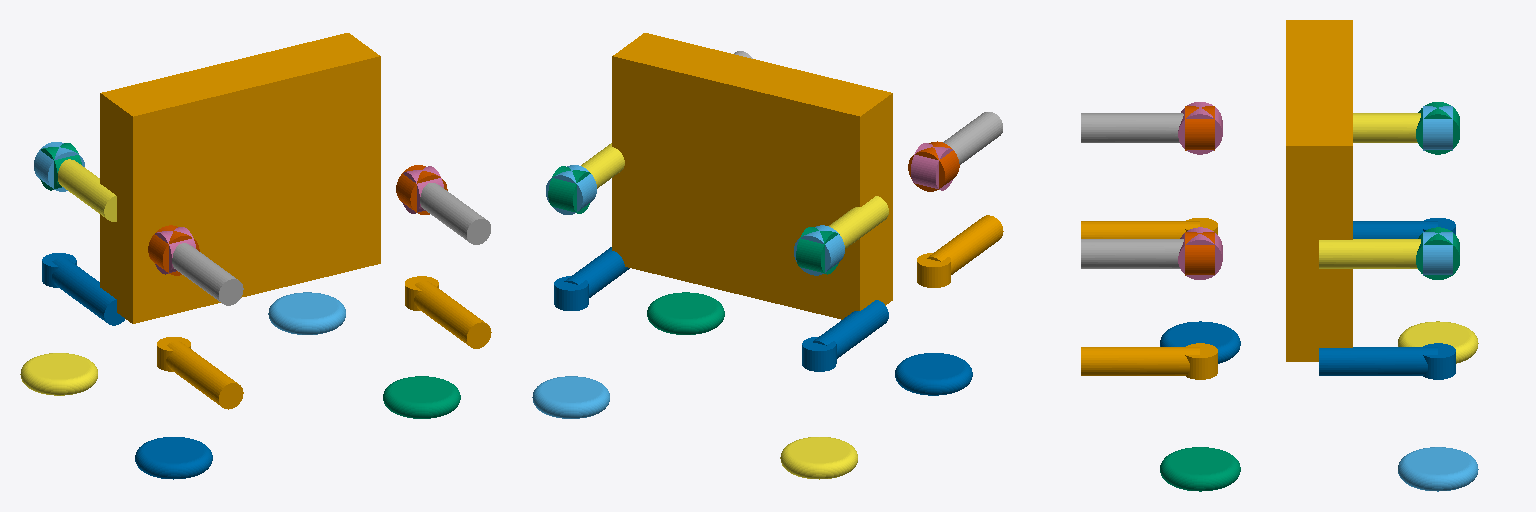
The robot description file, URDF, robot "MELEW3":
<?xml version="1.0" ?>
<!-- =================================================================================== -->
<!-- |    This document was autogenerated by xacro from MELEW3.xacro                   | -->
<!-- |    EDITING THIS FILE BY HAND IS NOT RECOMMENDED                                 | -->
<!-- =================================================================================== -->
<robot name="MELEW3">
  <link name="BODY">
    <inertial>
      <mass value="6.0"/>
      <origin rpy="0 0 0" xyz="0 0 0"/>
      <inertia ixx="0.08638450" ixy="0.0" ixz="0.0" iyy="0.13138450" iyz="0.0" izz="0.20500000"/>
    </inertial>
    <visual>
      <origin rpy="-1.5708 0 0" xyz="0 0 0"/>
      <geometry>
        <mesh filename="../meshes/body.STL"/>
      </geometry>
    </visual>
    <collision>
      <geometry>
        <mesh filename="../meshes/body.STL"/>
      </geometry>
    </collision>
  </link>
  <!-- FL -->
  <link name="HIP_YAW_FL">
    <inertial>
      <mass value="0.05"/>
      <origin rpy="0 0 0" xyz="0 0 0"/>
      <inertia ixx="0.01" ixy="0.0" ixz="0.0" iyy="0.01" iyz="0.0" izz="0.01"/>
    </inertial>
    <visual>
      <origin rpy="-1.5708 0 0" xyz="0 0 0"/>
      <geometry>
        <mesh filename="../meshes/joint_y.STL"/>
      </geometry>
    </visual>
    <collision>
      <geometry>
        <mesh filename="../meshes/joint_y.STL"/>
      </geometry>
    </collision>
  </link>
  <link name="HIP_ROLL_FL">
    <inertial>
      <mass value="0.05"/>
      <origin rpy="0 0 0" xyz="0 0 0"/>
      <inertia ixx="0.01" ixy="0.0" ixz="0.0" iyy="0.01" iyz="0.0" izz="0.01"/>
    </inertial>
    <visual>
      <origin rpy="-1.5708 0 0" xyz="0 0 0"/>
      <geometry>
        <mesh filename="../meshes/joint_r.STL"/>
      </geometry>
    </visual>
    <collision>
      <geometry>
        <mesh filename="../meshes/joint_r.STL"/>
      </geometry>
    </collision>
  </link>
  <link name="HIP_PITCH_FL">
    <inertial>
      <mass value="4.05"/>
      <origin rpy="0 0 0" xyz="0 0 -0.09876543209"/>
      <inertia ixx="0.06000329" ixy="0.0" ixz="0.0" iyy="0.06024268" iyz="0.0" izz="0.01"/>
    </inertial>
    <visual>
      <origin rpy="-1.5708 0 0" xyz="0 0 0"/>
      <geometry>
        <mesh filename="../meshes/link_small.STL"/>
      </geometry>
    </visual>
    <collision>
      <geometry>
        <mesh filename="../meshes/link_small.STL"/>
      </geometry>
    </collision>
  </link>
  <link name="KNEE_FL">
    <inertial>
      <mass value="1.05"/>
      <origin rpy="-0 0 0" xyz="0 0 -0.095238095238"/>
      <inertia ixx="0.01500082" ixy="0.0" ixz="0.0" iyy="0.01506067" iyz="0.0" izz="0.01"/>
    </inertial>
    <visual>
      <origin rpy="-1.5708 0 0" xyz="0 0 0"/>
      <geometry>
        <mesh filename="../meshes/link_small.STL"/>
      </geometry>
    </visual>
    <collision>
      <geometry>
        <mesh filename="../meshes/link_small.STL"/>
      </geometry>
    </collision>
  </link>
  <!-- FR -->
  <link name="HIP_YAW_FR">
    <inertial>
      <mass value="0.05"/>
      <origin rpy="0 0 0" xyz="0 0 0"/>
      <inertia ixx="0.01" ixy="0.0" ixz="0.0" iyy="0.01" iyz="0.0" izz="0.01"/>
    </inertial>
    <visual>
      <origin rpy="-1.5708 0 0" xyz="0 0 0"/>
      <geometry>
        <mesh filename="../meshes/joint_y.STL"/>
      </geometry>
    </visual>
    <collision>
      <geometry>
        <mesh filename="../meshes/joint_y.STL"/>
      </geometry>
    </collision>
  </link>
  <link name="HIP_ROLL_FR">
    <inertial>
      <mass value="0.05"/>
      <origin rpy="0 0 0" xyz="0 0 0"/>
      <inertia ixx="0.01" ixy="0.0" ixz="0.0" iyy="0.01" iyz="0.0" izz="0.01"/>
    </inertial>
    <visual>
      <origin rpy="-1.5708 0 0" xyz="0 0 0"/>
      <geometry>
        <mesh filename="../meshes/joint_r.STL"/>
      </geometry>
    </visual>
    <collision>
      <geometry>
        <mesh filename="../meshes/joint_r.STL"/>
      </geometry>
    </collision>
  </link>
  <link name="HIP_PITCH_FR">
    <inertial>
      <mass value="4.05"/>
      <origin rpy="0 0 0" xyz="0 0 -0.09876543209"/>
      <inertia ixx="0.06000329" ixy="0.0" ixz="0.0" iyy="0.06024268" iyz="0.0" izz="0.01"/>
    </inertial>
    <visual>
      <origin rpy="-1.5708 0 0" xyz="0 0 0"/>
      <geometry>
        <mesh filename="../meshes/link_small.STL"/>
      </geometry>
    </visual>
    <collision>
      <geometry>
        <mesh filename="../meshes/link_small.STL"/>
      </geometry>
    </collision>
  </link>
  <link name="KNEE_FR">
    <inertial>
      <mass value="1.05"/>
      <origin rpy="0 0 0" xyz="0 0 -0.095238095238"/>
      <inertia ixx="0.01500082" ixy="0.0" ixz="0.0" iyy="0.01506067" iyz="0.0" izz="0.01"/>
    </inertial>
    <visual>
      <origin rpy="-1.5708 0 0" xyz="0 0 0"/>
      <geometry>
        <mesh filename="../meshes/link_small.STL"/>
      </geometry>
    </visual>
    <collision>
      <geometry>
        <mesh filename="../meshes/link_small.STL"/>
      </geometry>
    </collision>
  </link>
  <!-- BL -->
  <link name="HIP_YAW_BL">
    <inertial>
      <mass value="0.05"/>
      <origin rpy="0 0 0" xyz="0 0 0"/>
      <inertia ixx="0.01" ixy="0.0" ixz="0.0" iyy="0.01" iyz="0.0" izz="0.01"/>
    </inertial>
    <visual>
      <origin rpy="-1.5708 0 0" xyz="0 0 0"/>
      <geometry>
        <mesh filename="../meshes/joint_y.STL"/>
      </geometry>
    </visual>
    <collision>
      <geometry>
        <mesh filename="../meshes/joint_y.STL"/>
      </geometry>
    </collision>
  </link>
  <link name="HIP_ROLL_BL">
    <inertial>
      <mass value="0.05"/>
      <origin rpy="0 0 0" xyz="0 0 0"/>
      <inertia ixx="0.01" ixy="0.0" ixz="0.0" iyy="0.01" iyz="0.0" izz="0.01"/>
    </inertial>
    <visual>
      <origin rpy="-1.5708 0 0" xyz="0 0 0"/>
      <geometry>
        <mesh filename="../meshes/joint_r.STL"/>
      </geometry>
    </visual>
    <collision>
      <geometry>
        <mesh filename="../meshes/joint_r.STL"/>
      </geometry>
    </collision>
  </link>
  <link name="HIP_PITCH_BL">
    <inertial>
      <mass value="4.05"/>
      <origin rpy="0 0 0" xyz="0 0 -0.09876543209"/>
      <inertia ixx="0.06000329" ixy="0.0" ixz="0.0" iyy="0.06024268" iyz="0.0" izz="0.01"/>
    </inertial>
    <visual>
      <origin rpy="-1.5708 0 0" xyz="0 0 0"/>
      <geometry>
        <mesh filename="../meshes/link_small.STL"/>
      </geometry>
    </visual>
    <collision>
      <geometry>
        <mesh filename="../meshes/link_small.STL"/>
      </geometry>
    </collision>
  </link>
  <link name="KNEE_BL">
    <inertial>
      <mass value="1.05"/>
      <origin rpy="0 0 0" xyz="0 0 -0.095238095238"/>
      <inertia ixx="0.01500082" ixy="0.0" ixz="0.0" iyy="0.01506067" iyz="0.0" izz="0.01"/>
    </inertial>
    <visual>
      <origin rpy="-1.5708 0 0" xyz="0 0 0"/>
      <geometry>
        <mesh filename="../meshes/link_small.STL"/>
      </geometry>
    </visual>
    <collision>
      <geometry>
        <mesh filename="../meshes/link_small.STL"/>
      </geometry>
    </collision>
  </link>
  <!-- BR -->
  <link name="HIP_YAW_BR">
    <inertial>
      <mass value="0.05"/>
      <origin rpy="0 0 0" xyz="0 0 0"/>
      <inertia ixx="0.01" ixy="0.0" ixz="0.0" iyy="0.01" iyz="0.0" izz="0.01"/>
    </inertial>
    <visual>
      <origin rpy="-1.5708 0 0" xyz="0 0 0"/>
      <geometry>
        <mesh filename="../meshes/joint_y.STL"/>
      </geometry>
    </visual>
    <collision>
      <geometry>
        <mesh filename="../meshes/joint_y.STL"/>
      </geometry>
    </collision>
  </link>
  <link name="HIP_ROLL_BR">
    <inertial>
      <mass value="0.05"/>
      <origin rpy="0 0 0" xyz="0 0 0"/>
      <inertia ixx="0.01" ixy="0.0" ixz="0.0" iyy="0.01" iyz="0.0" izz="0.01"/>
    </inertial>
    <visual>
      <origin rpy="-1.5708 0 0" xyz="0 0 0"/>
      <geometry>
        <mesh filename="../meshes/joint_r.STL"/>
      </geometry>
    </visual>
    <collision>
      <geometry>
        <mesh filename="../meshes/joint_r.STL"/>
      </geometry>
    </collision>
  </link>
  <link name="HIP_PITCH_BR">
    <inertial>
      <mass value="4.05"/>
      <origin rpy="0 0 0" xyz="0 0 -0.09876543209"/>
      <inertia ixx="0.06000329" ixy="0.0" ixz="0.0" iyy="0.06024268" iyz="0.0" izz="0.01"/>
    </inertial>
    <visual>
      <origin rpy="-1.5708 0 0" xyz="0 0 0"/>
      <geometry>
        <mesh filename="../meshes/link_small.STL"/>
      </geometry>
    </visual>
    <collision>
      <geometry>
        <mesh filename="../meshes/link_small.STL"/>
      </geometry>
    </collision>
  </link>
  <link name="KNEE_BR">
    <inertial>
      <mass value="1.05"/>
      <origin rpy="0 0 0" xyz="0 0 -0.095238095238"/>
      <inertia ixx="0.01" ixy="0.0" ixz="0.0" iyy="0.01" iyz="0.0" izz="0.01"/>
    </inertial>
    <visual>
      <origin rpy="-1.5708 0 0" xyz="0 0 0"/>
      <geometry>
        <mesh filename="../meshes/link_small.STL"/>
      </geometry>
    </visual>
    <collision>
      <geometry>
        <mesh filename="../meshes/link_small.STL"/>
      </geometry>
    </collision>
  </link>
  <!-- WHEEL -->
  <link name="WHEEL_FL">
    <inertial>
      <mass value="1.0"/>
      <origin rpy="0 0 0" xyz="0 0 0"/>
      <inertia ixx="0.01" ixy="0.0" ixz="0.0" iyy="0.01" iyz="0.0" izz="0.01"/>
    </inertial>
    <visual>
      <origin rpy="-1.5708 0 0" xyz="0 0 0"/>
      <geometry>
        <mesh filename="../meshes/wheel.STL"/>
      </geometry>
    </visual>
    <collision>
      <geometry>
        <mesh filename="../meshes/wheel.STL"/>
      </geometry>
    </collision>
  </link>
  <link name="WHEEL_FR">
    <inertial>
      <mass value="1.0"/>
      <origin rpy="0 0 0" xyz="0 0 0"/>
      <inertia ixx="0.01" ixy="0.0" ixz="0.0" iyy="0.01" iyz="0.0" izz="0.01"/>
    </inertial>
    <visual>
      <origin rpy="-1.5708 0 0" xyz="0 0 0"/>
      <geometry>
        <mesh filename="../meshes/wheel.STL"/>
      </geometry>
    </visual>
    <collision>
      <geometry>
        <mesh filename="../meshes/wheel.STL"/>
      </geometry>
    </collision>
  </link>
  <link name="WHEEL_BL">
    <inertial>
      <mass value="1.0"/>
      <origin rpy="0 0 0" xyz="0 0 0"/>
      <inertia ixx="0.01" ixy="0.0" ixz="0.0" iyy="0.01" iyz="0.0" izz="0.01"/>
    </inertial>
    <visual>
      <origin rpy="-1.5708 0 0" xyz="0 0 0"/>
      <geometry>
        <mesh filename="../meshes/wheel.STL"/>
      </geometry>
    </visual>
    <collision>
      <geometry>
        <mesh filename="../meshes/wheel.STL"/>
      </geometry>
    </collision>
  </link>
  <link name="WHEEL_BR">
    <inertial>
      <mass value="1.0"/>
      <origin rpy="0 0 0" xyz="0 0 0"/>
      <inertia ixx="0.01" ixy="0.0" ixz="0.0" iyy="0.01" iyz="0.0" izz="0.01"/>
    </inertial>
    <visual>
      <origin rpy="-1.5708 0 0" xyz="0 0 0"/>
      <geometry>
        <mesh filename="../meshes/wheel.STL"/>
      </geometry>
    </visual>
    <collision>
      <geometry>
        <mesh filename="../meshes/wheel.STL"/>
      </geometry>
    </collision>
  </link>
  <!-- \\\\\\\\\\\\\\\\\\\\\\\\\\\\\\\\\\\\\\\\\\\\\\\\\\\\\\\\\\\\\\\\\\\\\\\\\\\\\\\\ -->
  <!-- FL -->
  <joint name="HIP_YAW_FL" type="revolute">
    <origin rpy="0.0 0.0 0.0" xyz="0.25 0.2 0.0"/>
    <axis xyz="0 0 1"/>
    <parent link="BODY"/>
    <child link="HIP_YAW_FL"/>
    <limit effort="100.0" lower="-1.57079632679" upper="1.57079632679" velocity="90.0"/>
  </joint>
  <joint name="HIP_ROLL_FL" type="revolute">
    <origin rpy="0.0 0.0 0.0" xyz="0.0 0.0 0.0"/>
    <axis xyz="1 0 0"/>
    <parent link="HIP_YAW_FL"/>
    <child link="HIP_ROLL_FL"/>
    <limit effort="100.0" lower="-0.785398163397" upper="0.785398163397" velocity="90.0"/>
  </joint>
  <joint name="HIP_PITCH_FL" type="revolute">
    <origin rpy="0.0 0.0 0.0" xyz="0.0 0.0 0.0"/>
    <axis xyz="0 1 0"/>
    <parent link="HIP_ROLL_FL"/>
    <child link="HIP_PITCH_FL"/>
    <limit effort="100.0" lower="-1.57079632679" upper="1.57079632679" velocity="90.0"/>
  </joint>
  <joint name="KNEE_FL" type="revolute">
    <origin rpy="0.0 0.0 0.0" xyz="0.0 0.0 -0.2"/>
    <axis xyz="0 1 0"/>
    <parent link="HIP_PITCH_FL"/>
    <child link="KNEE_FL"/>
    <limit effort="100.0" lower="-2.35619449019" upper="0.0" velocity="90.0"/>
  </joint>
  <joint name="WHEEL_FL" type="continuous">
    <origin rpy="0.0 0.0 0.0" xyz="0.0 0.0 -0.2"/>
    <axis xyz="0 1 0"/>
    <parent link="KNEE_FL"/>
    <child link="WHEEL_FL"/>
    <limit effort="100.0" velocity="90.0"/>
  </joint>
  <!-- FR -->
  <joint name="HIP_YAW_FR" type="revolute">
    <origin rpy="0.0 0.0 0.0" xyz="0.25 -0.2 0.0"/>
    <axis xyz="0 0 1"/>
    <parent link="BODY"/>
    <child link="HIP_YAW_FR"/>
    <limit effort="100.0" lower="-1.57079632679" upper="1.57079632679" velocity="90.0"/>
  </joint>
  <joint name="HIP_ROLL_FR" type="revolute">
    <origin rpy="0.0 0.0 0.0" xyz="0.0 0.0 0.0"/>
    <axis xyz="1 0 0"/>
    <parent link="HIP_YAW_FR"/>
    <child link="HIP_ROLL_FR"/>
    <limit effort="100.0" lower="-0.785398163397" upper="0.785398163397" velocity="90.0"/>
  </joint>
  <joint name="HIP_PITCH_FR" type="revolute">
    <origin rpy="0.0 0.0 0.0" xyz="0.0 0.0 0.0"/>
    <axis xyz="0 1 0"/>
    <parent link="HIP_ROLL_FR"/>
    <child link="HIP_PITCH_FR"/>
    <limit effort="100.0" lower="-1.57079632679" upper="1.57079632679" velocity="90.0"/>
  </joint>
  <joint name="KNEE_FR" type="revolute">
    <origin rpy="0.0 0.0 0.0" xyz="0.0 0.0 -0.2"/>
    <axis xyz="0 1 0"/>
    <parent link="HIP_PITCH_FR"/>
    <child link="KNEE_FR"/>
    <limit effort="100.0" lower="-2.35619449019" upper="0.0" velocity="90.0"/>
  </joint>
  <joint name="WHEEL_FR" type="continuous">
    <origin rpy="0.0 0.0 0.0" xyz="0.0 0.0 -0.2"/>
    <axis xyz="0 1 0"/>
    <parent link="KNEE_FR"/>
    <child link="WHEEL_FR"/>
    <limit effort="100.0" velocity="90.0"/>
  </joint>
  <!-- BL -->
  <joint name="HIP_YAW_BL" type="revolute">
    <origin rpy="0.0 0.0 0.0" xyz="-0.25 0.2 0.0"/>
    <axis xyz="0 0 1"/>
    <parent link="BODY"/>
    <child link="HIP_YAW_BL"/>
    <limit effort="100.0" lower="-1.57079632679" upper="1.57079632679" velocity="90.0"/>
  </joint>
  <joint name="HIP_ROLL_BL" type="revolute">
    <origin rpy="0.0 0.0 0.0" xyz="0.0 0.0 0.0"/>
    <axis xyz="1 0 0"/>
    <parent link="HIP_YAW_BL"/>
    <child link="HIP_ROLL_BL"/>
    <limit effort="100.0" lower="-0.785398163397" upper="0.785398163397" velocity="90.0"/>
  </joint>
  <joint name="HIP_PITCH_BL" type="revolute">
    <origin rpy="0.0 0.0 0.0" xyz="0.0 0.0 0.0"/>
    <axis xyz="0 1 0"/>
    <parent link="HIP_ROLL_BL"/>
    <child link="HIP_PITCH_BL"/>
    <limit effort="100.0" lower="-1.57079632679" upper="1.57079632679" velocity="90.0"/>
  </joint>
  <joint name="KNEE_BL" type="revolute">
    <origin rpy="0.0 0.0 0.0" xyz="0.0 0.0 -0.2"/>
    <axis xyz="0 1 0"/>
    <parent link="HIP_PITCH_BL"/>
    <child link="KNEE_BL"/>
    <limit effort="100.0" lower="0.0" upper="2.35619449019" velocity="90.0"/>
  </joint>
  <joint name="WHEEL_BL" type="continuous">
    <origin rpy="0.0 0.0 0.0" xyz="0.0 0.0 -0.2"/>
    <axis xyz="0 1 0"/>
    <parent link="KNEE_BL"/>
    <child link="WHEEL_BL"/>
    <limit effort="100.0" velocity="90.0"/>
  </joint>
  <!-- BR -->
  <joint name="HIP_YAW_BR" type="revolute">
    <origin rpy="0.0 0.0 0.0" xyz="-0.25 -0.2 0.0"/>
    <axis xyz="0 0 1"/>
    <parent link="BODY"/>
    <child link="HIP_YAW_BR"/>
    <limit effort="100.0" lower="-1.57079632679" upper="1.57079632679" velocity="90.0"/>
  </joint>
  <joint name="HIP_ROLL_BR" type="revolute">
    <origin rpy="0.0 0.0 0.0" xyz="0.0 0.0 0.0"/>
    <axis xyz="1 0 0"/>
    <parent link="HIP_YAW_BR"/>
    <child link="HIP_ROLL_BR"/>
    <limit effort="100.0" lower="-0.785398163397" upper="0.785398163397" velocity="90.0"/>
  </joint>
  <joint name="HIP_PITCH_BR" type="revolute">
    <origin rpy="0.0 0.0 0.0" xyz="0.0 0.0 0.0"/>
    <axis xyz="0 1 0"/>
    <parent link="HIP_ROLL_BR"/>
    <child link="HIP_PITCH_BR"/>
    <limit effort="100.0" lower="-1.57079632679" upper="1.57079632679" velocity="90.0"/>
  </joint>
  <joint name="KNEE_BR" type="revolute">
    <origin rpy="0.0 0.0 0.0" xyz="0.0 0.0 -0.2"/>
    <axis xyz="0 1 0"/>
    <parent link="HIP_PITCH_BR"/>
    <child link="KNEE_BR"/>
    <limit effort="100.0" lower="0.0" upper="2.35619449019" velocity="90.0"/>
  </joint>
  <joint name="WHEEL_BR" type="continuous">
    <origin rpy="0.0 0.0 0.0" xyz="0.0 0.0 -0.2"/>
    <axis xyz="0 1 0"/>
    <parent link="KNEE_BR"/>
    <child link="WHEEL_BR"/>
    <limit effort="100.0" velocity="90.0" />
  </joint>
  <transmission name="HIP_YAW_FL_trans">
    <type>transmission_interface/SimpleTransmission</type>
    <joint name="HIP_YAW_FL">
      <hardwareInterface>EffortJointInterface</hardwareInterface>
    </joint>
    <actuator name="HIP_YAW_FL_motor">
      <hardwareInterface>EffortJointInterface</hardwareInterface>
    </actuator>
  </transmission>
  <transmission name="HIP_ROLL_FL_trans">
    <type>transmission_interface/SimpleTransmission</type>
    <joint name="HIP_ROLL_FL">
      <hardwareInterface>EffortJointInterface</hardwareInterface>
    </joint>
    <actuator name="HIP_ROLL_FL_motor">
      <hardwareInterface>EffortJointInterface</hardwareInterface>
    </actuator>
  </transmission>
  <transmission name="HIP_PITCH_FL_trans">
    <type>transmission_interface/SimpleTransmission</type>
    <joint name="HIP_PITCH_FL">
      <hardwareInterface>EffortJointInterface</hardwareInterface>
    </joint>
    <actuator name="HIP_PITCH_FL_motor">
      <hardwareInterface>EffortJointInterface</hardwareInterface>
    </actuator>
  </transmission>
  <transmission name="KNEE_FL_trans">
    <type>transmission_interface/SimpleTransmission</type>
    <joint name="KNEE_FL">
      <hardwareInterface>EffortJointInterface</hardwareInterface>
    </joint>
    <actuator name="KNEE_FL_motor">
      <hardwareInterface>EffortJointInterface</hardwareInterface>
    </actuator>
  </transmission>
  <transmission name="HIP_YAW_FR_trans">
    <type>transmission_interface/SimpleTransmission</type>
    <joint name="HIP_YAW_FR">
      <hardwareInterface>EffortJointInterface</hardwareInterface>
    </joint>
    <actuator name="HIP_YAW_FR_motor">
      <hardwareInterface>EffortJointInterface</hardwareInterface>
    </actuator>
  </transmission>
  <transmission name="HIP_ROLL_FR_trans">
    <type>transmission_interface/SimpleTransmission</type>
    <joint name="HIP_ROLL_FR">
      <hardwareInterface>EffortJointInterface</hardwareInterface>
    </joint>
    <actuator name="HIP_ROLL_FR_motor">
      <hardwareInterface>EffortJointInterface</hardwareInterface>
    </actuator>
  </transmission>
  <transmission name="HIP_PITCH_FR_trans">
    <type>transmission_interface/SimpleTransmission</type>
    <joint name="HIP_PITCH_FR">
      <hardwareInterface>EffortJointInterface</hardwareInterface>
    </joint>
    <actuator name="HIP_PITCH_FR_motor">
      <hardwareInterface>EffortJointInterface</hardwareInterface>
    </actuator>
  </transmission>
  <transmission name="KNEE_FR_trans">
    <type>transmission_interface/SimpleTransmission</type>
    <joint name="KNEE_FR">
      <hardwareInterface>EffortJointInterface</hardwareInterface>
    </joint>
    <actuator name="KNEE_FR_motor">
      <hardwareInterface>EffortJointInterface</hardwareInterface>
    </actuator>
  </transmission>
  <transmission name="HIP_YAW_BL_trans">
    <type>transmission_interface/SimpleTransmission</type>
    <joint name="HIP_YAW_BL">
      <hardwareInterface>EffortJointInterface</hardwareInterface>
    </joint>
    <actuator name="HIP_YAW_BL_motor">
      <hardwareInterface>EffortJointInterface</hardwareInterface>
    </actuator>
  </transmission>
  <transmission name="HIP_ROLL_BL_trans">
    <type>transmission_interface/SimpleTransmission</type>
    <joint name="HIP_ROLL_BL">
      <hardwareInterface>EffortJointInterface</hardwareInterface>
    </joint>
    <actuator name="HIP_ROLL_BL_motor">
      <hardwareInterface>EffortJointInterface</hardwareInterface>
    </actuator>
  </transmission>
  <transmission name="HIP_PITCH_BL_trans">
    <type>transmission_interface/SimpleTransmission</type>
    <joint name="HIP_PITCH_BL">
      <hardwareInterface>EffortJointInterface</hardwareInterface>
    </joint>
    <actuator name="HIP_PITCH_BL_motor">
      <hardwareInterface>EffortJointInterface</hardwareInterface>
    </actuator>
  </transmission>
  <transmission name="KNEE_BL_trans">
    <type>transmission_interface/SimpleTransmission</type>
    <joint name="KNEE_BL">
      <hardwareInterface>EffortJointInterface</hardwareInterface>
    </joint>
    <actuator name="KNEE_BL_motor">
      <hardwareInterface>EffortJointInterface</hardwareInterface>
    </actuator>
  </transmission>
  <transmission name="HIP_YAW_BR_trans">
    <type>transmission_interface/SimpleTransmission</type>
    <joint name="HIP_YAW_BR">
      <hardwareInterface>EffortJointInterface</hardwareInterface>
    </joint>
    <actuator name="HIP_YAW_BR_motor">
      <hardwareInterface>EffortJointInterface</hardwareInterface>
    </actuator>
  </transmission>
  <transmission name="HIP_ROLL_BR_trans">
    <type>transmission_interface/SimpleTransmission</type>
    <joint name="HIP_ROLL_BR">
      <hardwareInterface>EffortJointInterface</hardwareInterface>
    </joint>
    <actuator name="HIP_ROLL_BR_motor">
      <hardwareInterface>EffortJointInterface</hardwareInterface>
    </actuator>
  </transmission>
  <transmission name="HIP_PITCH_BR_trans">
    <type>transmission_interface/SimpleTransmission</type>
    <joint name="HIP_PITCH_BR">
      <hardwareInterface>EffortJointInterface</hardwareInterface>
    </joint>
    <actuator name="HIP_PITCH_BR_motor">
      <hardwareInterface>EffortJointInterface</hardwareInterface>
    </actuator>
  </transmission>
  <transmission name="KNEE_BR_trans">
    <type>transmission_interface/SimpleTransmission</type>
    <joint name="KNEE_BR">
      <hardwareInterface>EffortJointInterface</hardwareInterface>
    </joint>
    <actuator name="KNEE_BR_motor">
      <hardwareInterface>EffortJointInterface</hardwareInterface>
    </actuator>
  </transmission>
  <transmission name="WHEEL_FL_trans">
    <type>transmission_interface/SimpleTransmission</type>
    <joint name="WHEEL_FL">
      <hardwareInterface>EffortJointInterface</hardwareInterface>
    </joint>
    <actuator name="WHEEL_FL_motor">
      <hardwareInterface>EffortJointInterface</hardwareInterface>
    </actuator>
  </transmission>
  <transmission name="WHEEL_FR_trans">
    <type>transmission_interface/SimpleTransmission</type>
    <joint name="WHEEL_FR">
      <hardwareInterface>EffortJointInterface</hardwareInterface>
    </joint>
    <actuator name="WHEEL_FR_motor">
      <hardwareInterface>EffortJointInterface</hardwareInterface>
    </actuator>
  </transmission>
  <transmission name="WHEEL_BL_trans">
    <type>transmission_interface/SimpleTransmission</type>
    <joint name="WHEEL_BL">
      <hardwareInterface>EffortJointInterface</hardwareInterface>
    </joint>
    <actuator name="WHEEL_BL_motor">
      <hardwareInterface>EffortJointInterface</hardwareInterface>
    </actuator>
  </transmission>
  <transmission name="WHEEL_BR_trans">
    <type>transmission_interface/SimpleTransmission</type>
    <joint name="WHEEL_BR">
      <hardwareInterface>EffortJointInterface</hardwareInterface>
    </joint>
    <actuator name="WHEEL_BR_motor">
      <hardwareInterface>EffortJointInterface</hardwareInterface>
    </actuator>
  </transmission>
</robot>

--- Render facts (derived) ---
The picture shows the robot from 3 angles, left to right: view 1: azimuth 30°, elevation 25°; view 2: azimuth 150°, elevation 25°; view 3: azimuth 270°, elevation 25°; orthographic projection.
Robot: MELEW3 — 21 links, 20 joints (16 revolute, 4 continuous); root link BODY; default pose: all joints at 0.
Visible links, largest first — view 1: BODY, KNEE_FR, KNEE_BR, WHEEL_FR, WHEEL_BL, WHEEL_FL, WHEEL_BR, KNEE_BL, HIP_PITCH_BR, HIP_PITCH_FR, HIP_PITCH_BL, HIP_YAW_BR (+2 smaller); view 2: BODY, KNEE_BR, KNEE_BL, WHEEL_BR, WHEEL_FL, WHEEL_FR, WHEEL_BL, KNEE_FL, HIP_PITCH_BR, HIP_PITCH_BL, HIP_ROLL_FL, HIP_ROLL_BL (+5 smaller); view 3: BODY, KNEE_FR, KNEE_FL, HIP_PITCH_FR, HIP_PITCH_BR, HIP_PITCH_FL, WHEEL_FR, WHEEL_FL, KNEE_BR, HIP_PITCH_BL, WHEEL_BR, WHEEL_BL (+9 smaller).
Boxes of the visible links, bbox=[...] form: BODY: bbox=[100, 33, 380, 323]; KNEE_FR: bbox=[405, 276, 491, 348]; KNEE_BR: bbox=[157, 337, 243, 409]; WHEEL_FR: bbox=[383, 376, 460, 418]; WHEEL_BL: bbox=[20, 353, 97, 395]; WHEEL_FL: bbox=[268, 292, 345, 334]; WHEEL_BR: bbox=[135, 437, 212, 479]; KNEE_BL: bbox=[42, 253, 124, 325]; HIP_PITCH_BR: bbox=[172, 243, 243, 305]; HIP_PITCH_FR: bbox=[420, 183, 490, 244]; HIP_PITCH_BL: bbox=[58, 159, 116, 221]; HIP_YAW_BR: bbox=[148, 225, 199, 275]; BODY: bbox=[612, 33, 892, 319]; KNEE_BR: bbox=[917, 215, 1003, 287]; KNEE_BL: bbox=[802, 300, 888, 371]; WHEEL_BR: bbox=[895, 353, 972, 395]; WHEEL_FL: bbox=[532, 376, 609, 418]; WHEEL_FR: bbox=[647, 292, 724, 334]; WHEEL_BL: bbox=[780, 437, 857, 479]; KNEE_FL: bbox=[554, 247, 629, 310]; HIP_PITCH_BR: bbox=[943, 112, 1002, 164]; HIP_PITCH_BL: bbox=[829, 196, 888, 248]; HIP_ROLL_FL: bbox=[548, 166, 590, 213]; HIP_ROLL_BL: bbox=[796, 227, 839, 274]; BODY: bbox=[1286, 20, 1352, 361]; KNEE_FR: bbox=[1081, 343, 1217, 379]; KNEE_FL: bbox=[1319, 343, 1455, 379]; HIP_PITCH_FR: bbox=[1081, 239, 1183, 268]; HIP_PITCH_BR: bbox=[1081, 113, 1183, 142]; HIP_PITCH_FL: bbox=[1319, 239, 1420, 268]; WHEEL_FR: bbox=[1160, 447, 1240, 491]; WHEEL_FL: bbox=[1398, 447, 1478, 491]; KNEE_BR: bbox=[1081, 218, 1217, 238]; HIP_PITCH_BL: bbox=[1353, 113, 1420, 142]; WHEEL_BR: bbox=[1160, 321, 1240, 363]; WHEEL_BL: bbox=[1398, 321, 1478, 363].
Size in the robot's own frame: 0.636 by 0.668 by 0.615 metres.
21 mesh visuals loaded from 5 distinct referenced files (5 binary STL).
